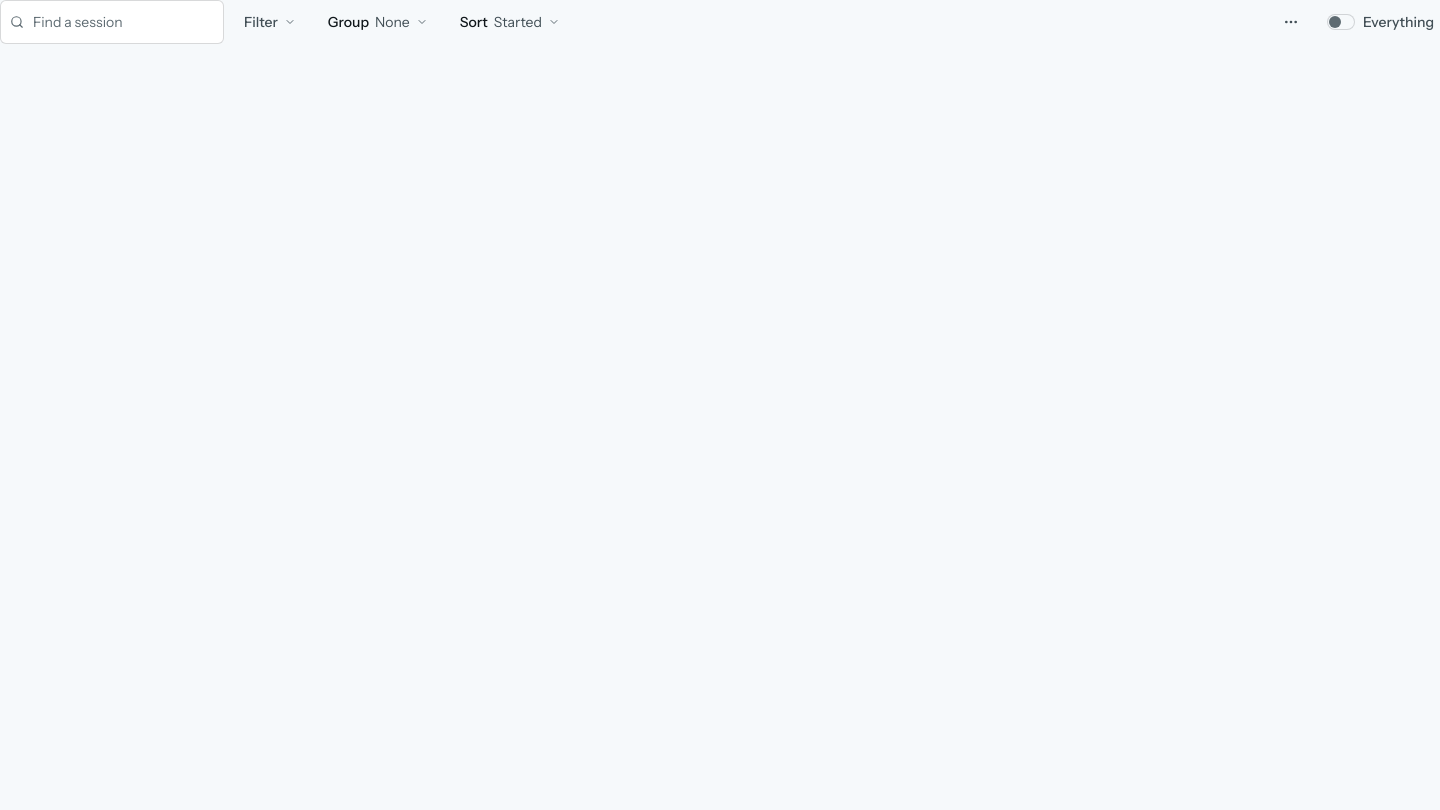
Test: the sessions toolbar › explains every order where it is chosen, grouped or not
Click the button with aria-label "Sort, Started" at coordinates (510, 22), box [448,0,572,44]
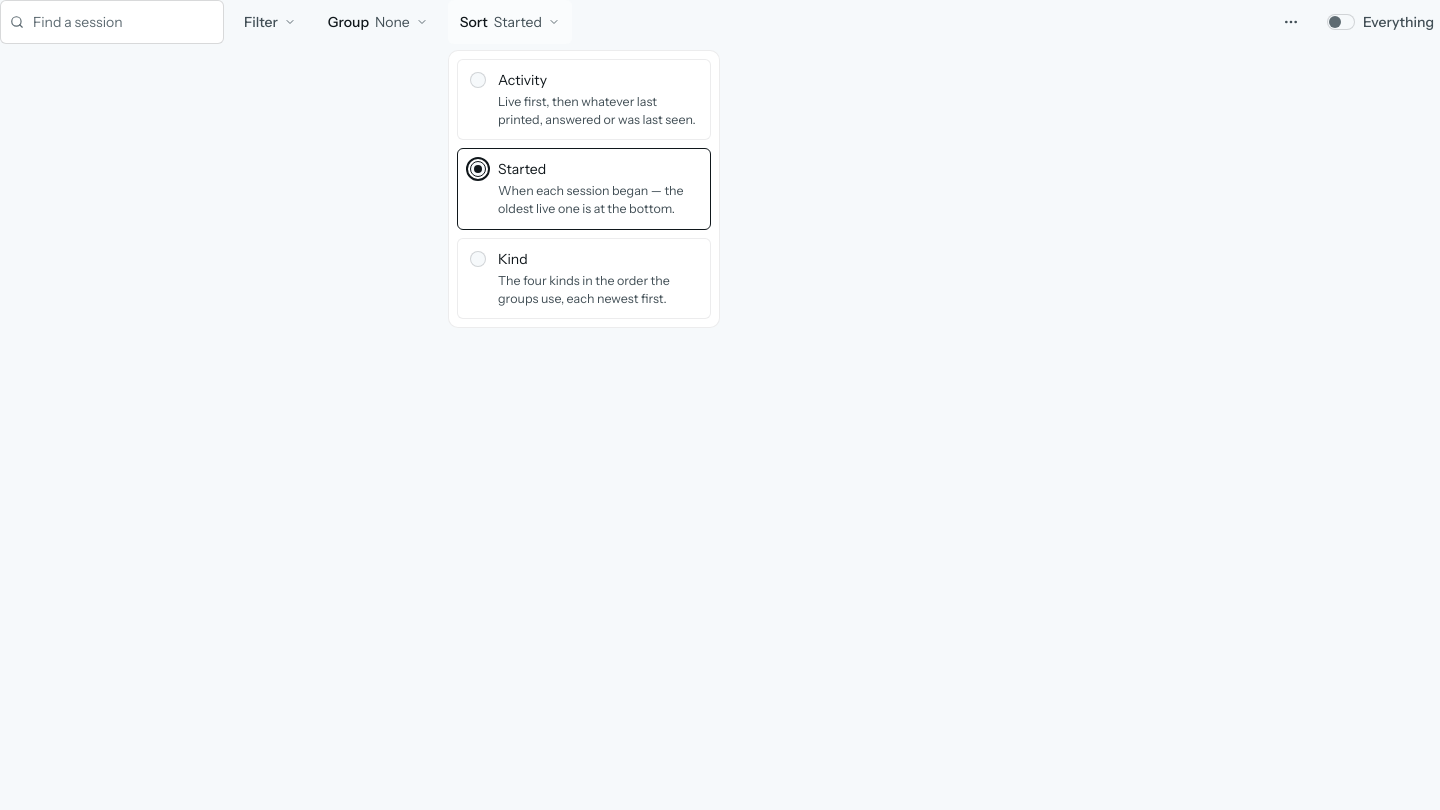
Expected: the text "When each session began" is shown, [498,183,684,216]
Expected: the text "Live first, then whatever last printed" is shown, [498,94,696,127]
